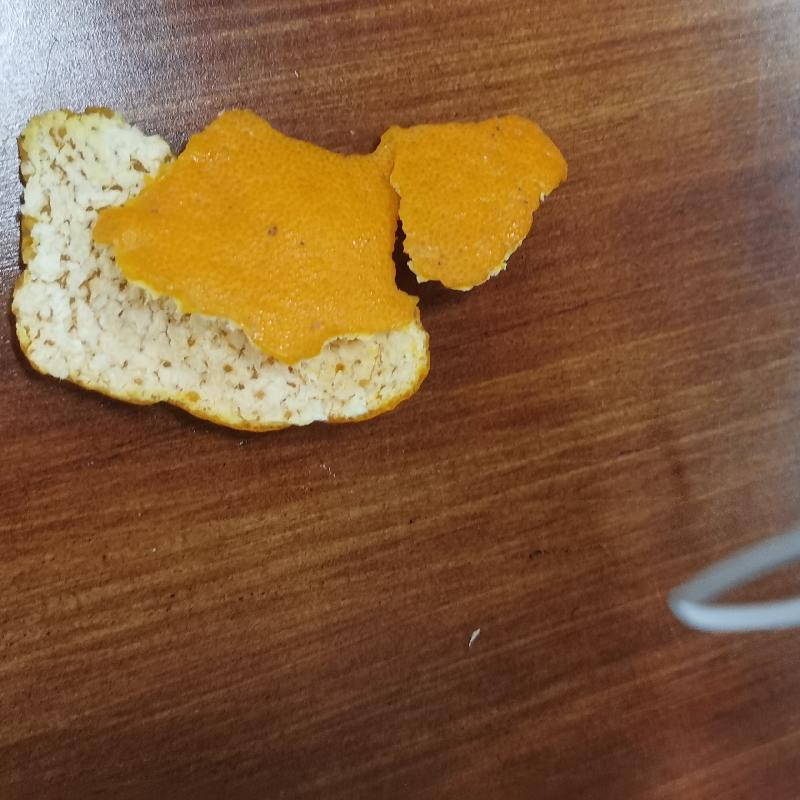orange: (12, 101, 572, 431)
